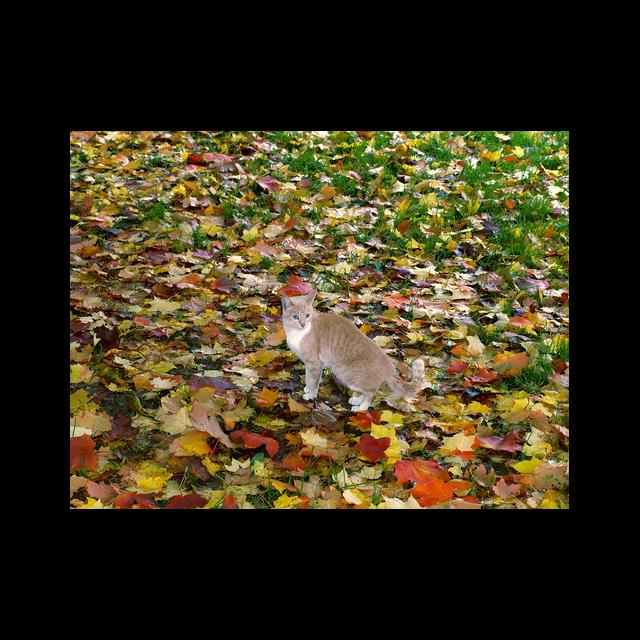animals: (282, 289, 426, 412)
